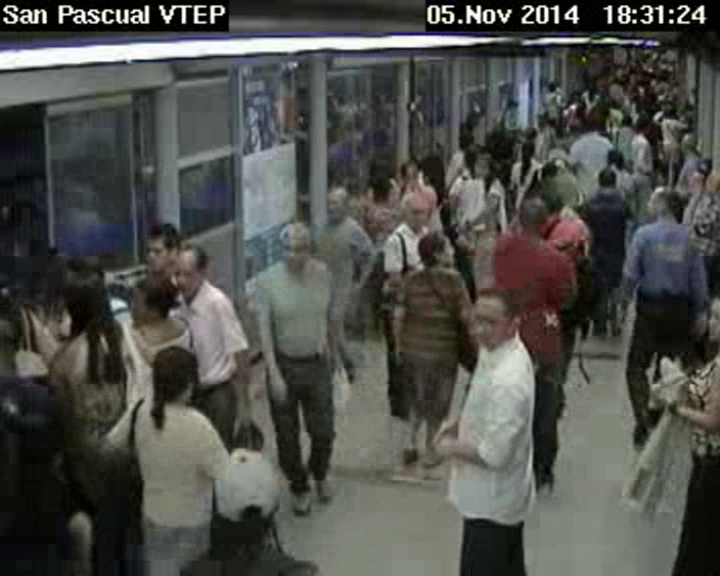person: (202, 435, 289, 555), (1, 376, 76, 478), (467, 280, 532, 351), (64, 263, 114, 332), (146, 344, 198, 405), (123, 272, 174, 317), (139, 222, 181, 274), (172, 240, 210, 293), (275, 217, 309, 276), (415, 226, 460, 268), (644, 182, 681, 230), (364, 149, 396, 199), (517, 193, 549, 241), (324, 184, 351, 227), (419, 146, 442, 193), (400, 191, 427, 227), (534, 157, 567, 186), (703, 288, 720, 344), (463, 150, 495, 178), (396, 157, 421, 183), (700, 167, 720, 196), (596, 167, 618, 193), (518, 136, 538, 162), (677, 130, 696, 155), (605, 147, 624, 170), (636, 117, 653, 135), (585, 117, 599, 134), (660, 106, 677, 120), (523, 125, 539, 139), (619, 114, 633, 128), (507, 99, 518, 112), (572, 93, 581, 103), (549, 81, 557, 92)
